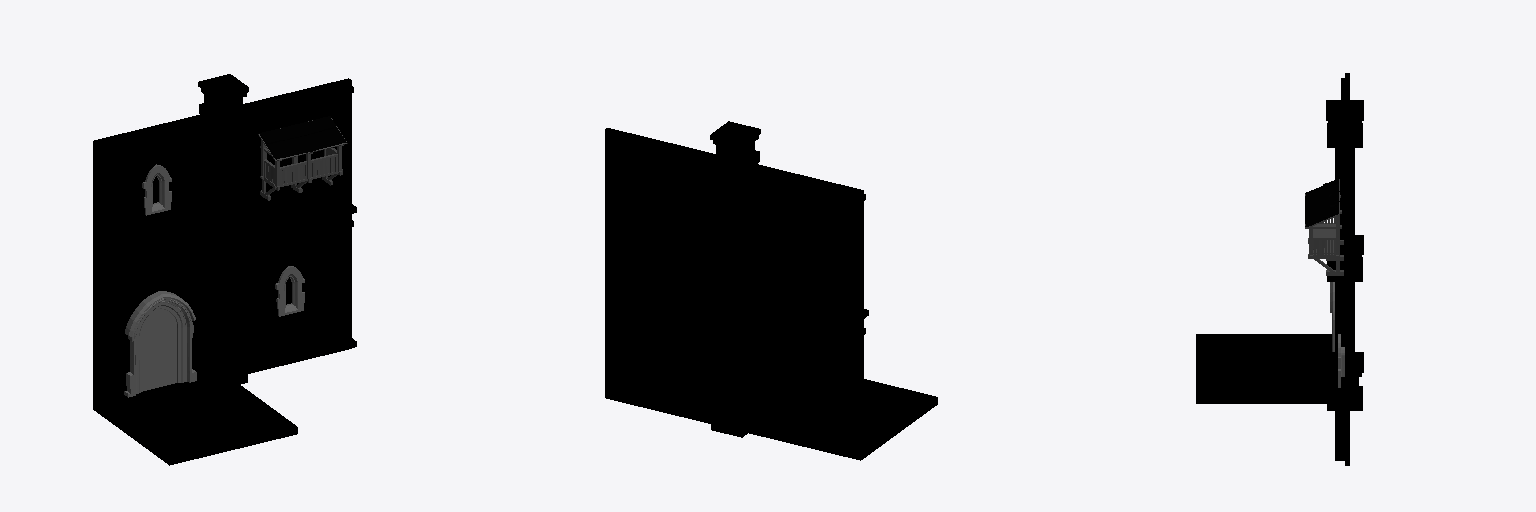
3 views of the same model, side by side, from view 1: azimuth 30°, elevation 25°; view 2: azimuth 150°, elevation 25°; view 3: azimuth 270°, elevation 25° (orthographic).
Parts seen in each view (by area): view 1: object_5, object_10, object_8, object_6, Plane.017, Cube.049_Cube.075, object_1, object_2, object_4, object_17, Plane.007, object_26 (+12 smaller); view 2: object_5, object_6, object_8, object_10, object_2, object_17, object_26, object_16, object_24, object_3, object_13; view 3: object_1, Cube.049_Cube.075, object_4, object_2, object_3, object_8, object_17, object_16, object_10, object_12, object_26, object_7.
Part boxes in pixels (x1,y1,x2,y2): object_5: (93, 113, 214, 276); object_10: (237, 215, 351, 373); object_8: (237, 78, 351, 240); object_6: (93, 250, 214, 410); Plane.017: (124, 291, 196, 397); Cube.049_Cube.075: (258, 116, 347, 200); object_1: (95, 386, 292, 465); object_2: (100, 400, 200, 464); object_4: (197, 379, 297, 440); object_17: (215, 123, 236, 224); Plane.007: (142, 164, 304, 316); object_26: (215, 257, 236, 341); object_5: (741, 163, 863, 325); object_6: (741, 299, 863, 460); object_8: (605, 128, 721, 289); object_10: (605, 264, 721, 423); object_2: (864, 389, 937, 455); object_17: (722, 170, 740, 271); object_26: (722, 304, 740, 389); object_16: (710, 121, 760, 147); object_24: (716, 397, 744, 425); object_3: (864, 379, 905, 403); object_13: (711, 150, 759, 174); object_1: (1196, 351, 1331, 403); Cube.049_Cube.075: (1305, 179, 1343, 275); object_4: (1196, 381, 1329, 403); object_2: (1196, 334, 1331, 350); object_3: (1196, 349, 1232, 380); object_8: (1345, 143, 1349, 331); object_17: (1335, 148, 1354, 246); object_16: (1326, 100, 1363, 120); object_10: (1345, 332, 1349, 465); object_12: (1335, 401, 1344, 460); object_26: (1335, 282, 1354, 364); object_7: (1335, 265, 1344, 326).
Bounding box in the file's own units: 20 × 22.01 × 11.28.